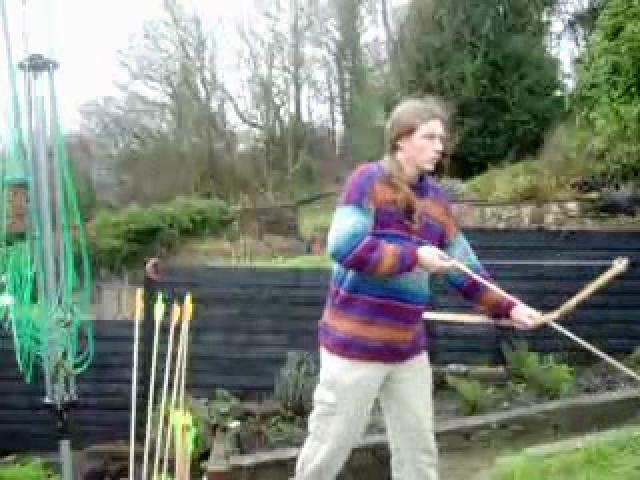I: (294, 91, 558, 480)
